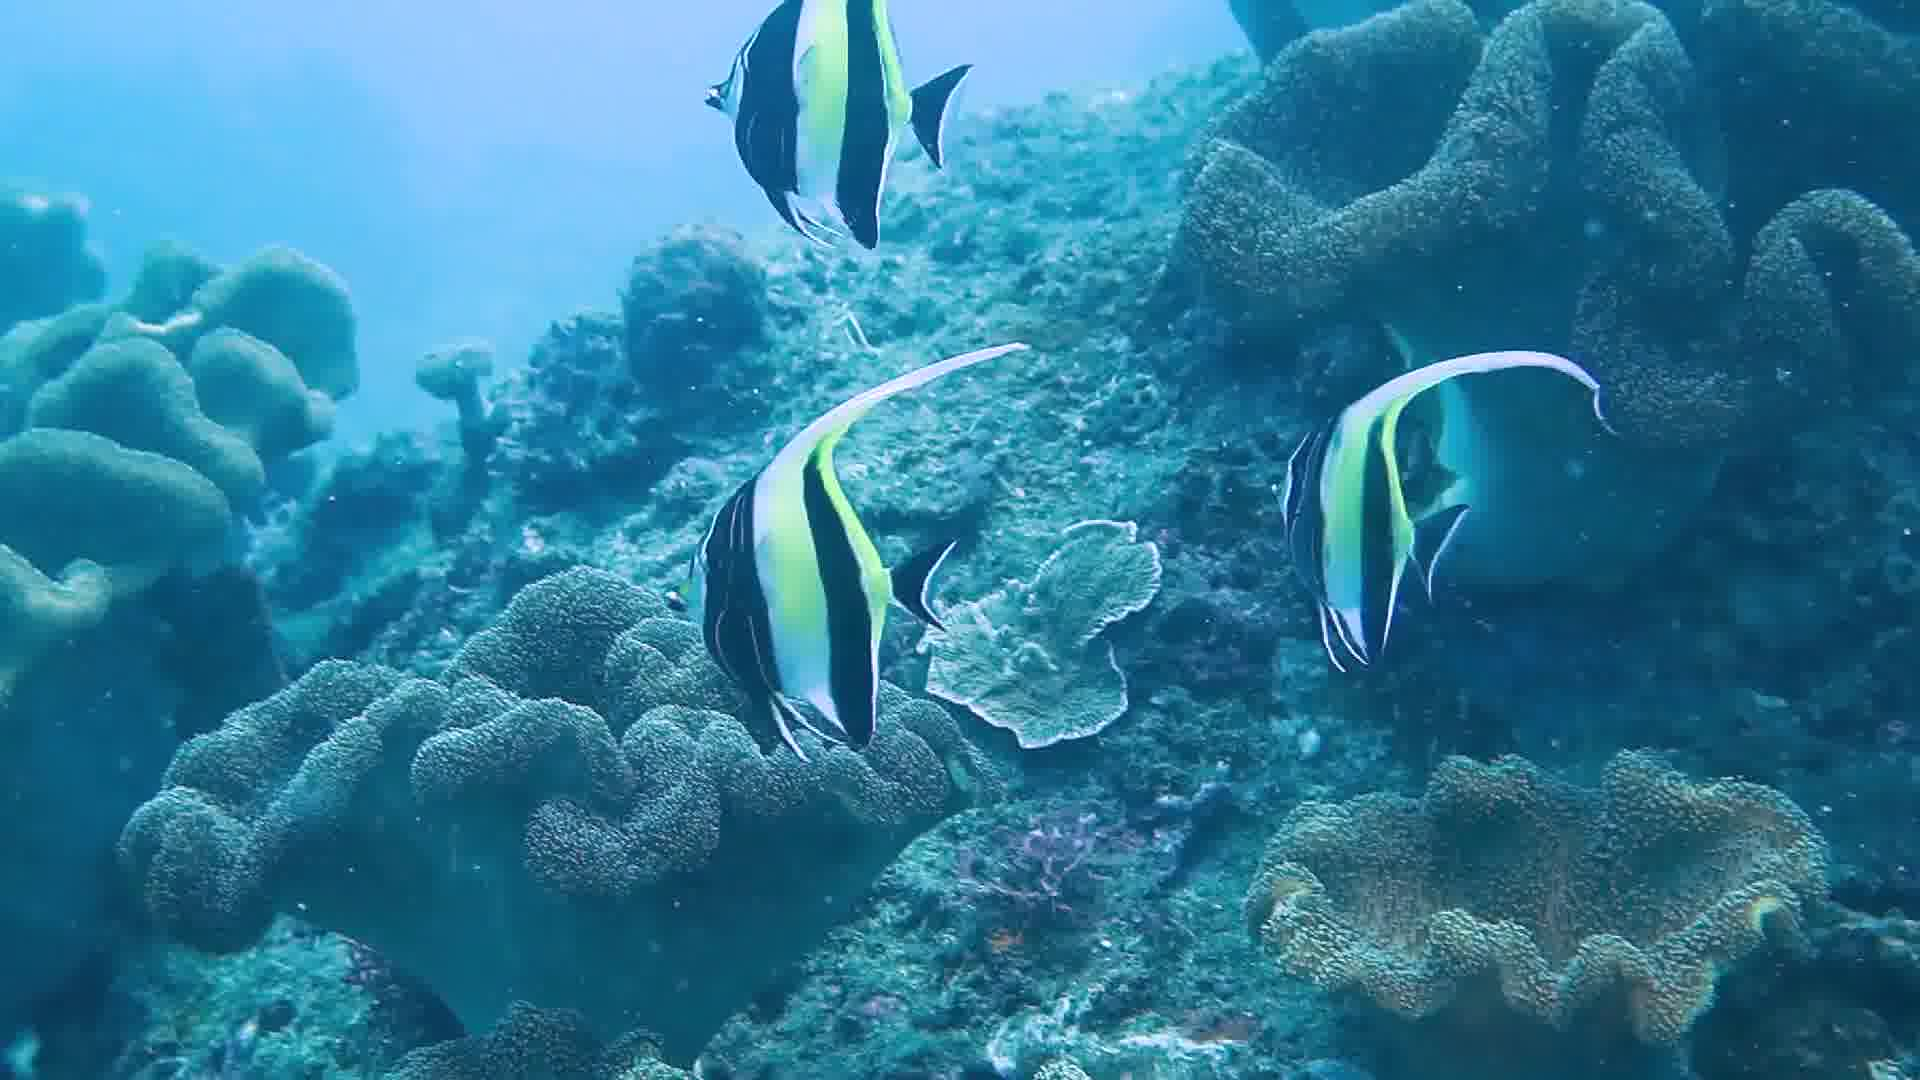Zanclus cornutus: (670, 419, 972, 765), (684, 1, 976, 276), (1265, 367, 1501, 665)
